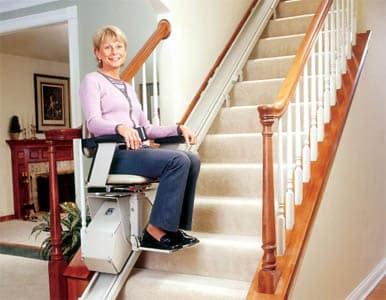chairs: (80, 114, 203, 255)
